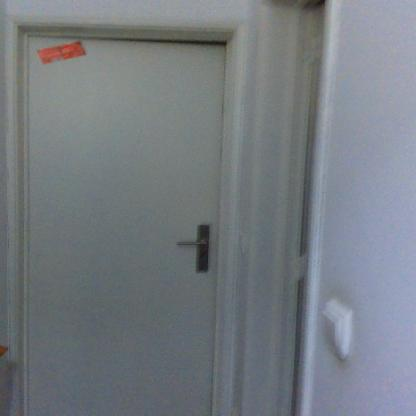door: (25, 34, 220, 415)
lever: (175, 241, 212, 248)
